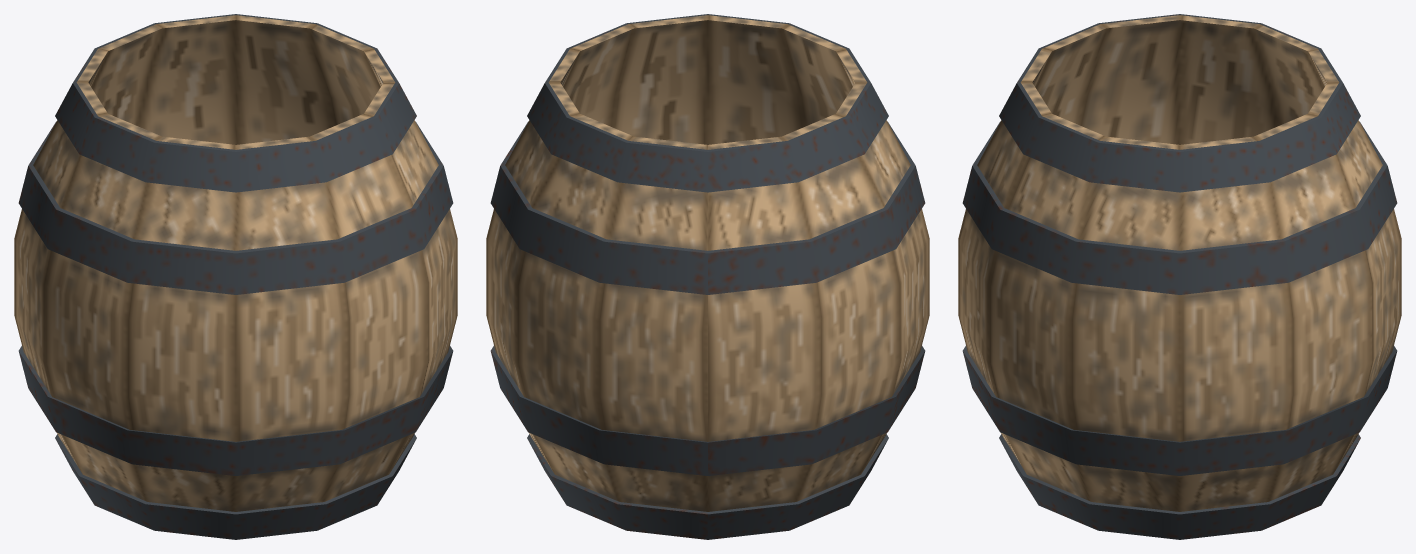
Rendered from md_caskTwo.fbx.
3 views of the same model, side by side, from view 1: azimuth 30°, elevation 25°; view 2: azimuth 150°, elevation 25°; view 3: azimuth 270°, elevation 25° (orthographic).
Visible parts, largest first — view 1: pCylinder1; view 2: pCylinder1; view 3: pCylinder1.
Part boxes in pixels (x1,y1,x2,y2): pCylinder1: (14, 14, 457, 539); pCylinder1: (486, 14, 929, 539); pCylinder1: (958, 14, 1401, 539).
Size of the model in its own units: 41.72 by 40.39 by 41.72.
